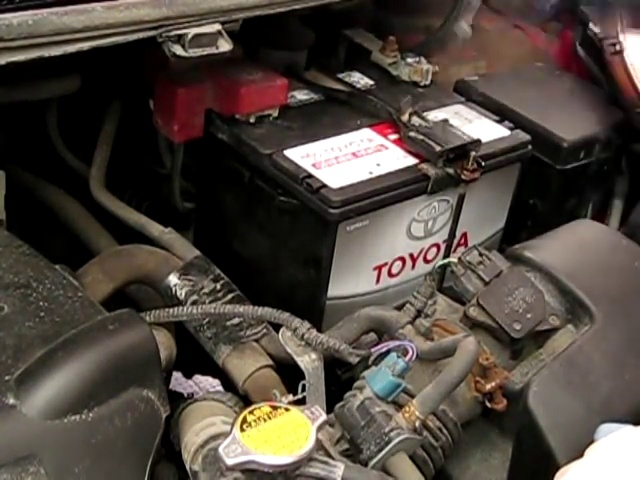battery: (168, 34, 531, 195)
neg_connected: (360, 18, 437, 93)
pos_connected: (147, 63, 294, 136)
